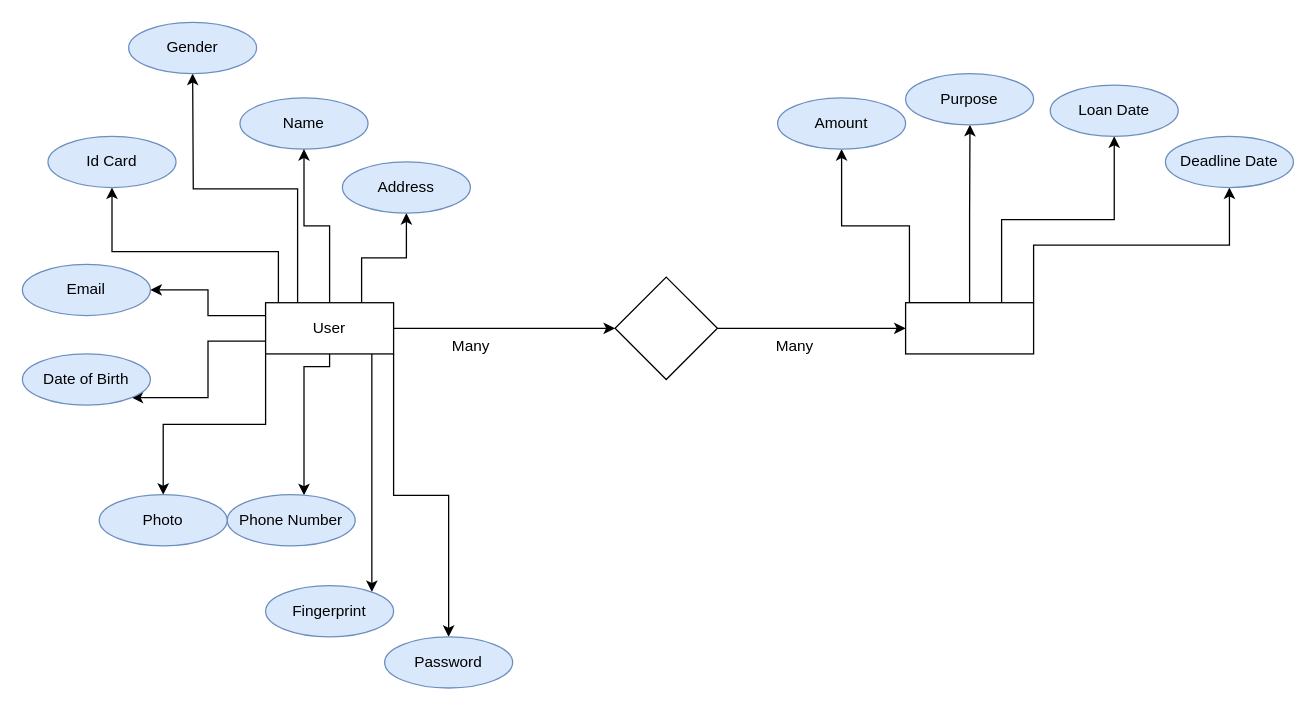
Image size: 1316x710. Some labels were removed from this diagram. The box of each missing label's shape, as (x1, y1, x2, y2) in pixels:
Loan: (904, 301, 1034, 354)
Register: (614, 276, 717, 380)
